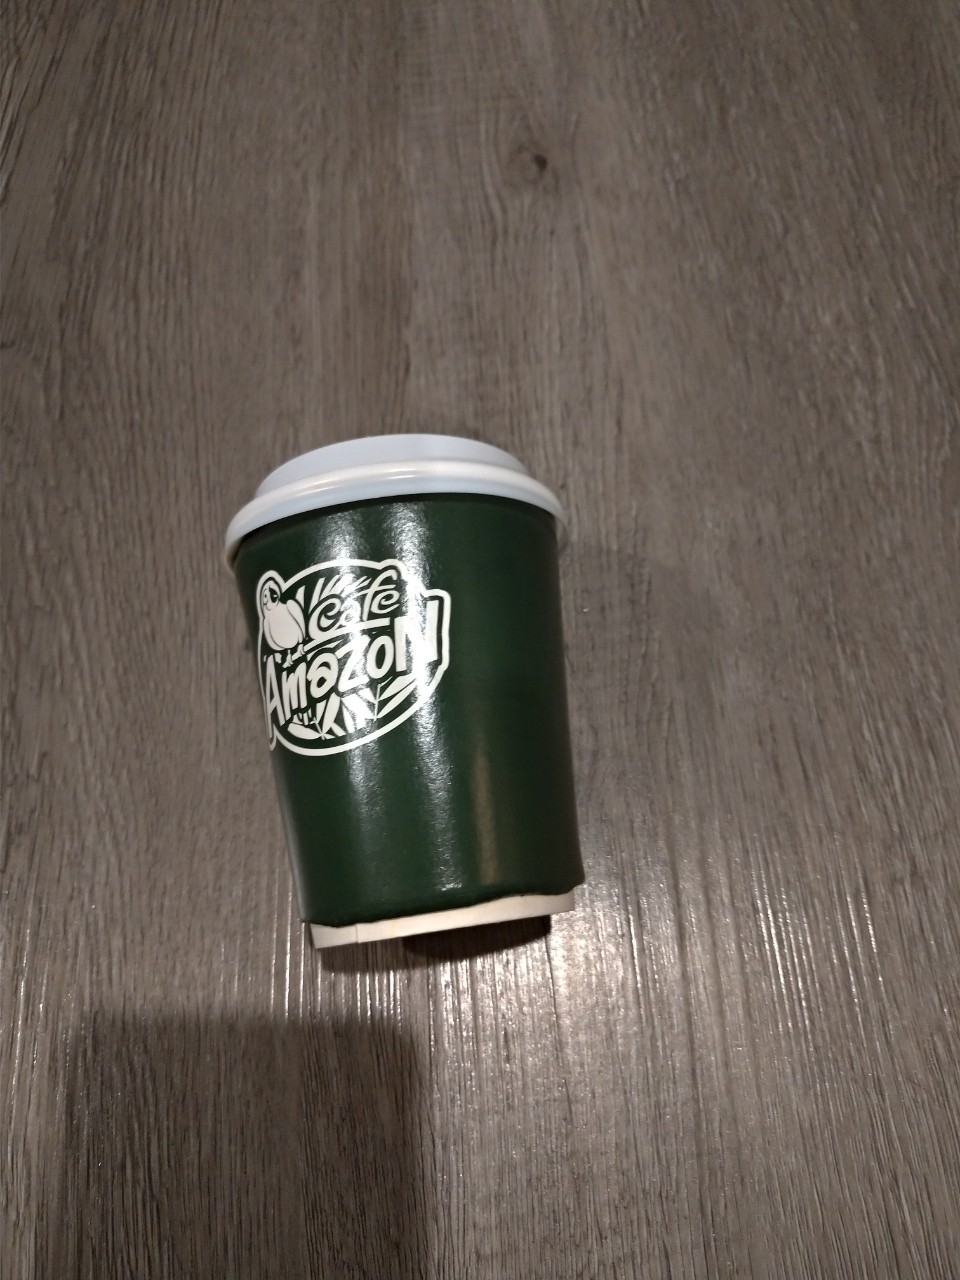PaperCup: (224, 435, 587, 966)
